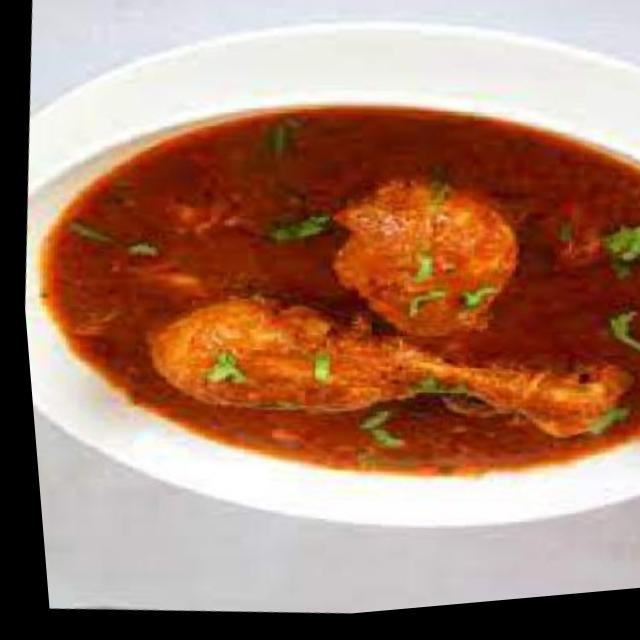CHICKEN CURRY: (46, 110, 640, 474)
